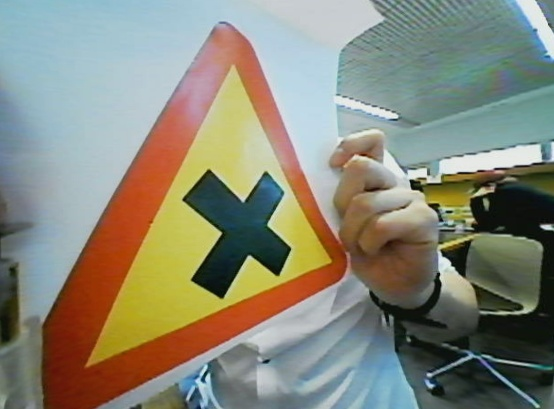junction: (27, 20, 355, 393)
